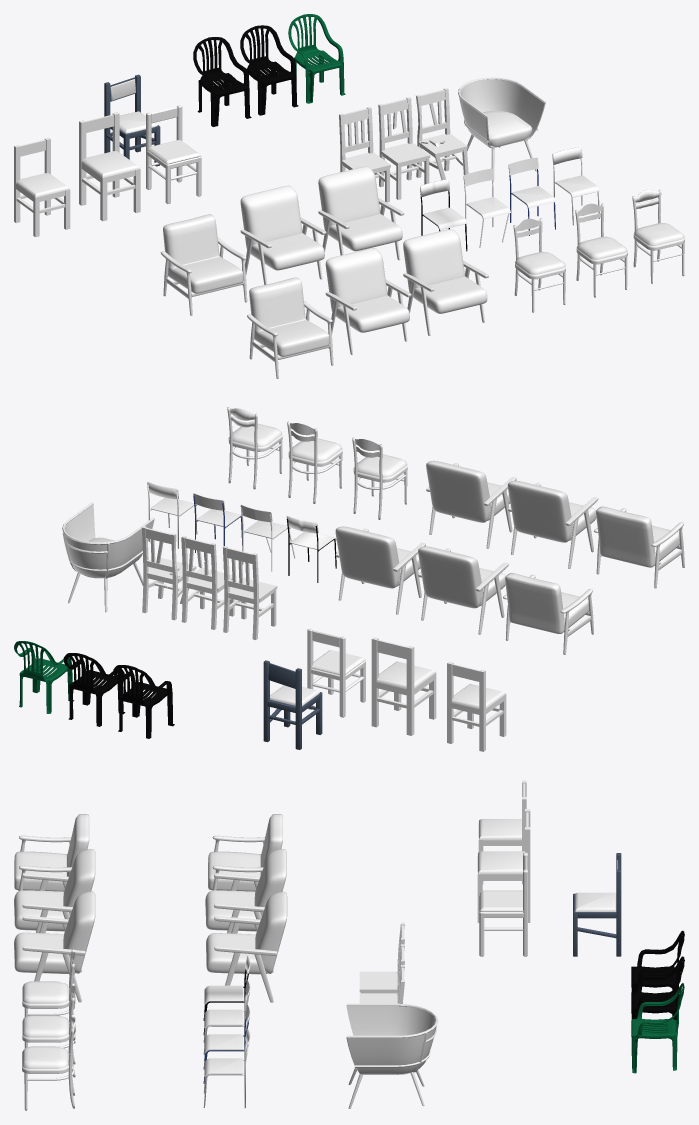
The model's file is Chair _Demo_Model.glb.
3 renders of one model, top to bottom at view 1: azimuth 30°, elevation 25°; view 2: azimuth 150°, elevation 25°; view 3: azimuth 270°, elevation 25°, orthographic. The views are drawn at different scales.
Parts seen in each view (by area): view 1: armchair_2, armchair_3, armchair_2_old, armchair_3_old, armchair_1_1, armchair_1_2, garden_chair_2, chair_2_2, chair_2_1, chair_2_3, chair_3_2, garden_chair_1_1 (+12 smaller); view 2: armchair_2, armchair_2_old, armchair_1_1, armchair_1_2, armchair_3_old, armchair_3, garden_chair_2, chair_2_2, chair_2_old, chair_2_1, chair_3_1, chair_2_3 (+12 smaller); view 3: garden_chair_2, armchair_3_old, armchair_3, armchair_2_old, armchair_2, armchair_1_1, armchair_1_2, chair_2_old, chair_2_2, chair_2_3, chair_1_3, garden_chair_1_3 (+11 smaller).
Boxes of the visible parts, bbox=[...] form: armchair_2: bbox=[325, 248, 411, 354]; armchair_3: bbox=[403, 229, 488, 335]; armchair_2_old: bbox=[240, 185, 326, 284]; armchair_3_old: bbox=[318, 166, 404, 260]; armchair_1_1: bbox=[247, 277, 333, 378]; armchair_1_2: bbox=[160, 214, 247, 315]; garden_chair_2: bbox=[458, 77, 545, 181]; chair_2_2: bbox=[79, 112, 140, 221]; chair_2_1: bbox=[14, 137, 70, 237]; chair_2_3: bbox=[146, 105, 201, 203]; chair_3_2: bbox=[378, 97, 430, 199]; garden_chair_1_1: bbox=[193, 37, 251, 126]; armchair_2: bbox=[507, 480, 598, 568]; armchair_2_old: bbox=[418, 546, 508, 634]; armchair_1_1: bbox=[594, 506, 684, 588]; armchair_1_2: bbox=[503, 573, 593, 654]; armchair_3_old: bbox=[335, 526, 425, 614]; armchair_3: bbox=[426, 460, 516, 548]; garden_chair_2: bbox=[62, 502, 154, 612]; chair_2_2: bbox=[371, 637, 436, 735]; chair_2_old: bbox=[263, 660, 322, 749]; chair_2_1: bbox=[447, 661, 506, 751]; chair_3_1: bbox=[222, 546, 277, 639]; chair_2_3: bbox=[307, 628, 365, 717]; garden_chair_2: bbox=[346, 1003, 438, 1108]; armchair_3_old: bbox=[206, 891, 287, 1002]; armchair_3: bbox=[14, 891, 95, 1002]; armchair_2_old: bbox=[205, 849, 286, 933]; armchair_2: bbox=[14, 849, 95, 932]; armchair_1_1: bbox=[14, 814, 89, 891]; armchair_1_2: bbox=[208, 814, 282, 891]; chair_2_old: bbox=[573, 853, 621, 956]; chair_2_2: bbox=[477, 809, 530, 922]; chair_2_3: bbox=[479, 852, 527, 956]; chair_1_3: bbox=[22, 1014, 75, 1110]; garden_chair_1_3: bbox=[631, 983, 684, 1073].
Bounding box in the file's own units: 5.34 × 0.9377 × 6.11.
